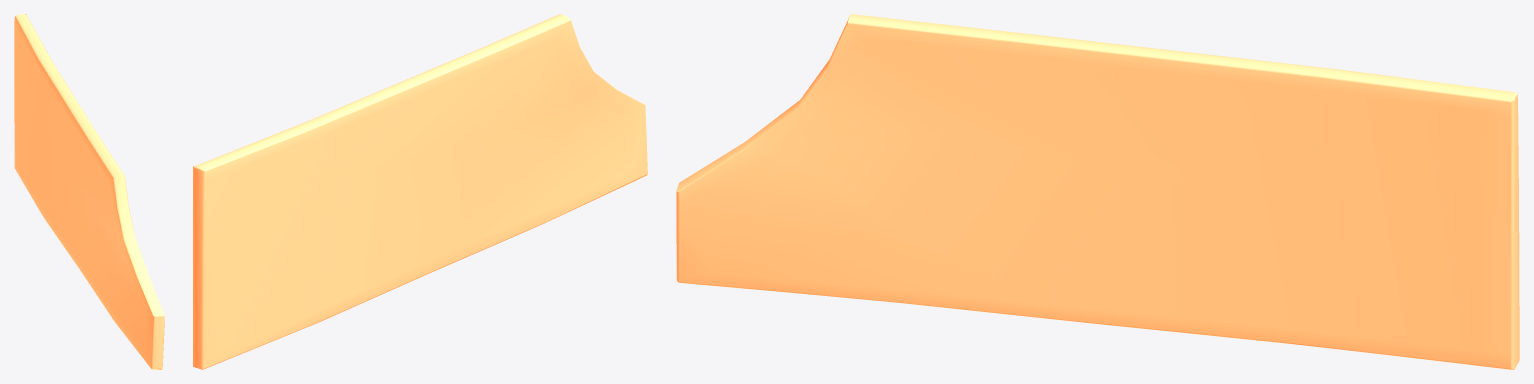
File: SM_Wall_Forecastle.fbx
3 renders of one model, left to right at view 1: azimuth 30°, elevation 25°; view 2: azimuth 150°, elevation 25°; view 3: azimuth 270°, elevation 25°, orthographic. The views are drawn at different scales.
Visible parts, largest first — view 1: SM_Wall_Forecastle_LOD0; view 2: SM_Wall_Forecastle_LOD0; view 3: SM_Wall_Forecastle_LOD0.
Boxes of the visible parts, x1,y1,x2,y2 form: SM_Wall_Forecastle_LOD0: (14, 14, 164, 369); SM_Wall_Forecastle_LOD0: (193, 14, 647, 369); SM_Wall_Forecastle_LOD0: (676, 14, 1519, 369).
Bounding box in the file's own units: 191 × 703 × 250.
